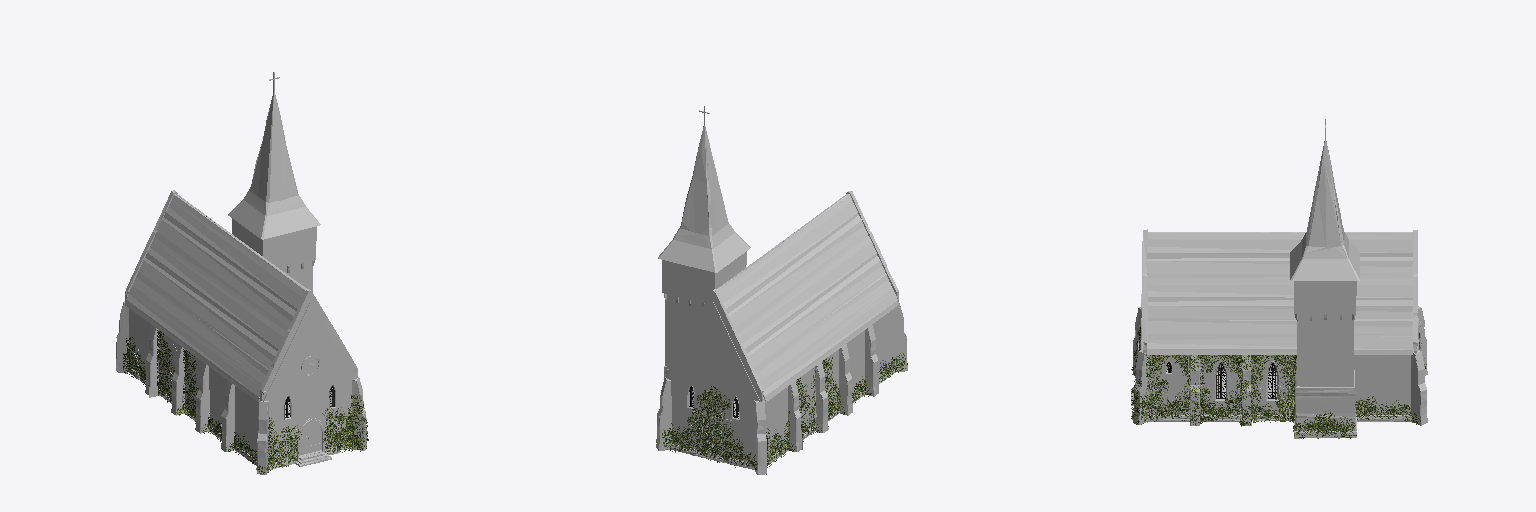
The picture shows the model from 3 angles: view 1: azimuth 30°, elevation 25°; view 2: azimuth 150°, elevation 25°; view 3: azimuth 270°, elevation 25°; orthographic projection.
Visible parts, largest first — view 1: church, ivy; view 2: church, ivy; view 3: church, ivy.
Boxes of the visible parts, x1,y1,x2,y2 form: church: [116, 72, 366, 474]; ivy: [123, 330, 368, 474]; church: [656, 106, 907, 474]; ivy: [656, 352, 907, 469]; church: [1131, 119, 1427, 438]; ivy: [1131, 327, 1426, 438].
Size of the model in its own units: 9.7 by 20.45 by 17.68.
3 materials, 2 textured.